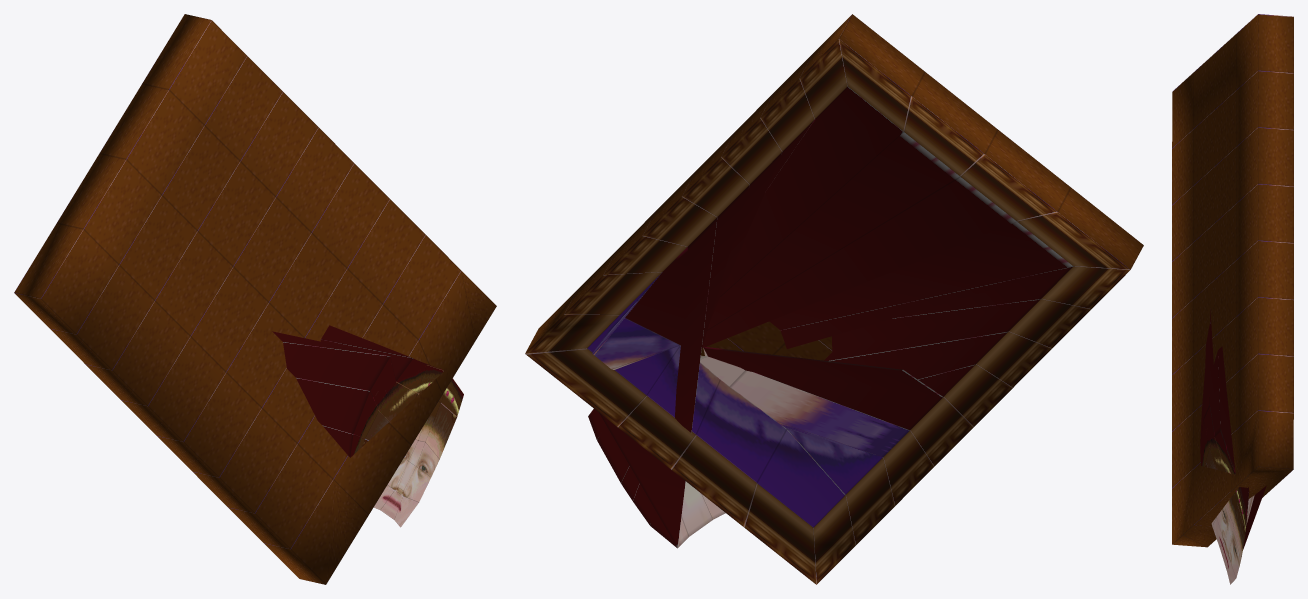
3 views of the same model, side by side, from view 1: azimuth 30°, elevation 25°; view 2: azimuth 150°, elevation 25°; view 3: azimuth 270°, elevation 25° (orthographic). The views are drawn at different scales.
Visible parts, largest first — view 1: T1L8M008_16; view 2: T1L8M008_16; view 3: T1L8M008_16.
Boxes of the visible parts, bbox=[...] form: T1L8M008_16: bbox=[14, 14, 496, 584]; T1L8M008_16: bbox=[525, 14, 1143, 584]; T1L8M008_16: bbox=[1172, 14, 1293, 584].
Bounding box in the file's own units: 3.45 × 3.58 × 0.779.
Materials: 1 (1 with a texture image).
